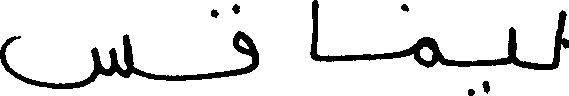X: (0, 29, 133, 93), (234, 0, 258, 80), (553, 5, 568, 73), (415, 32, 437, 72), (311, 0, 316, 95), (506, 22, 515, 69)
